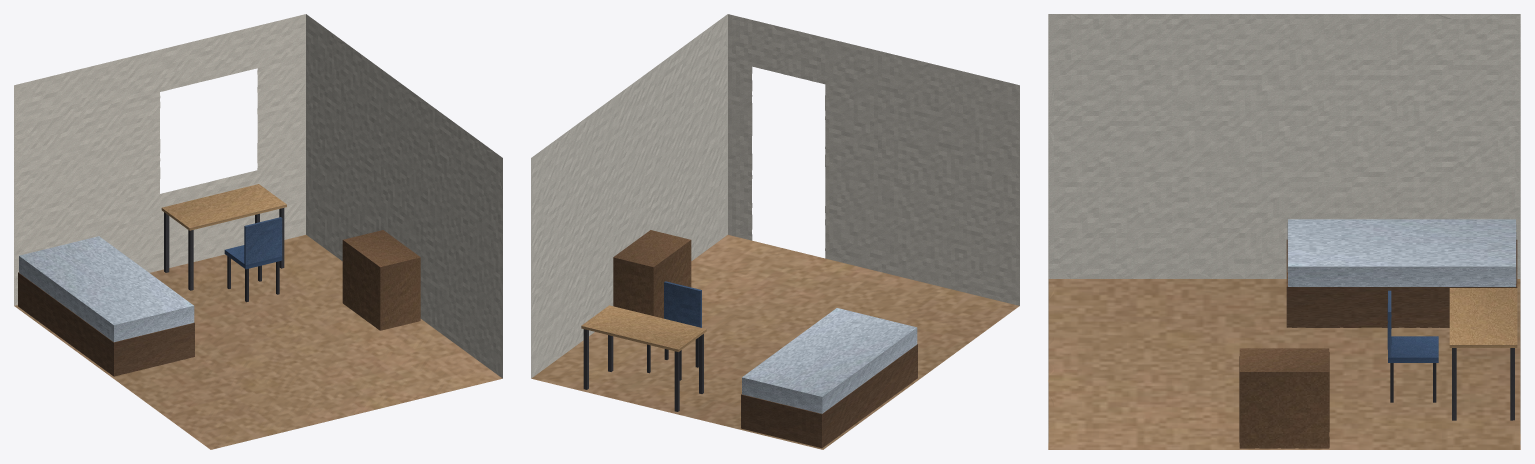
File: room.glb
3 views of the same model, side by side, from view 1: azimuth 30°, elevation 25°; view 2: azimuth 150°, elevation 25°; view 3: azimuth 270°, elevation 25° (orthographic). The views are drawn at different scales.
Visible parts, largest first — view 1: North wall, Floor, East wall, Mattress, Dresser, Bed frame, Desk top, Chair back, Desk legs, Chair seat; view 2: South wall, East wall, Floor, Mattress, Bed frame, Dresser, Desk top, Chair back, Desk legs; view 3: West wall, Floor, Mattress, Dresser, Bed frame, Desk top, Chair seat, Desk legs.
Boxes of the visible parts, left/top/right/bottom form: North wall: left=14, top=14, right=305, bottom=305; Floor: left=14, top=235, right=502, bottom=449; East wall: left=306, top=14, right=502, bottom=378; Mattress: left=19, top=236, right=194, bottom=342; Dresser: left=342, top=230, right=420, bottom=330; Bed frame: left=18, top=272, right=194, bottom=376; Desk top: left=161, top=184, right=286, bottom=230; Chair back: left=244, top=217, right=282, bottom=264; Desk legs: left=164, top=208, right=284, bottom=290; Chair seat: left=224, top=245, right=282, bottom=269; South wall: left=728, top=14, right=1019, bottom=305; East wall: left=531, top=14, right=727, bottom=378; Floor: left=531, top=235, right=1019, bottom=449; Mattress: left=742, top=308, right=917, bottom=413; Bed frame: left=741, top=344, right=917, bottom=448; Dresser: left=613, top=230, right=691, bottom=318; Desk top: left=581, top=305, right=706, bottom=351; Chair back: left=664, top=281, right=701, bottom=327; Desk legs: left=583, top=329, right=703, bottom=411; West wall: left=1048, top=14, right=1520, bottom=278; Floor: left=1048, top=279, right=1520, bottom=449; Mattress: left=1287, top=219, right=1516, bottom=286; Dresser: left=1239, top=348, right=1329, bottom=448; Bed frame: left=1286, top=239, right=1517, bottom=327; Desk top: left=1449, top=288, right=1517, bottom=347; Chair seat: left=1388, top=336, right=1438, bottom=362; Desk legs: left=1452, top=348, right=1514, bottom=420.
Size of the model in its own units: 3.6 by 2.6 by 4.2.
Materials: 14 (14 with a texture image).
